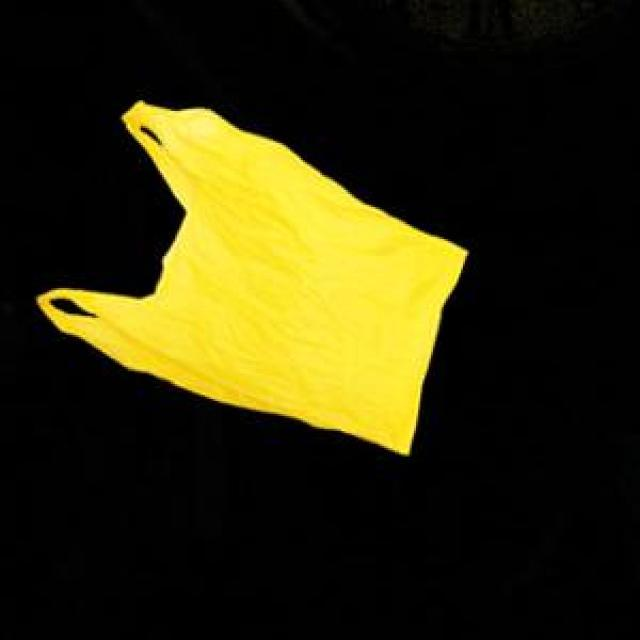Plastic_Bag: (35, 99, 464, 451)
